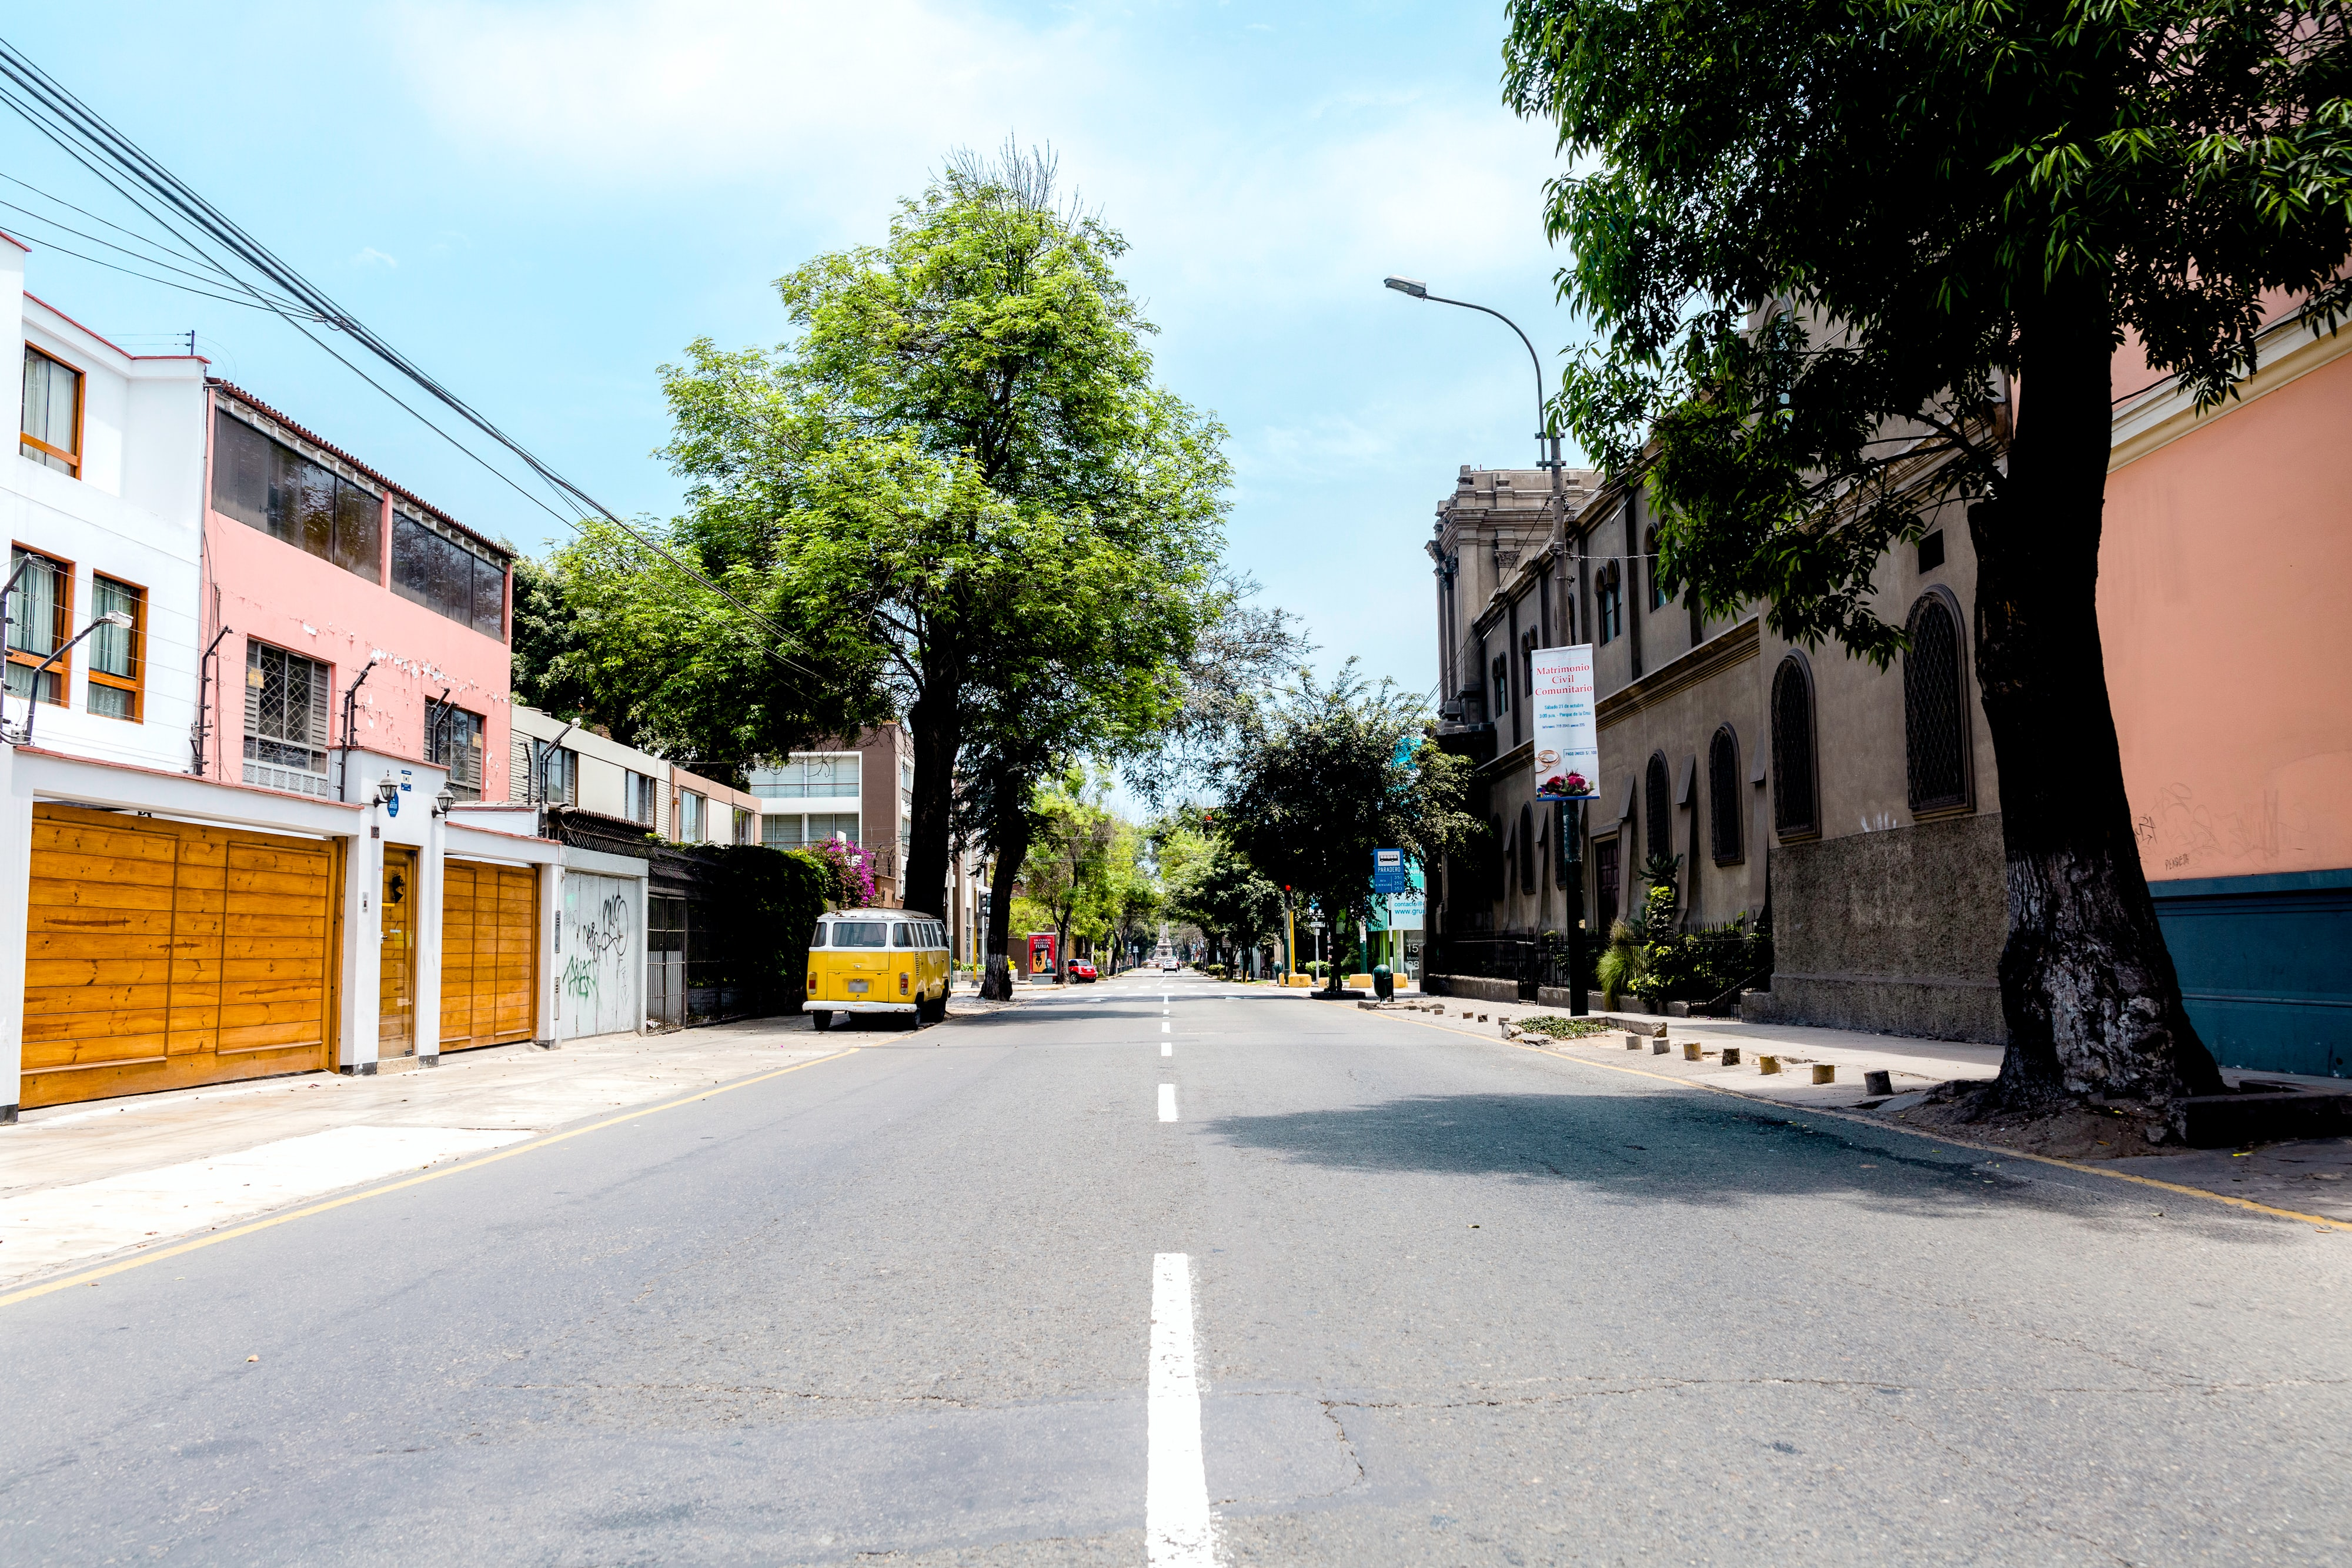tree: (1494, 0, 2352, 1125), (509, 122, 1267, 912), (1206, 654, 1480, 996)
